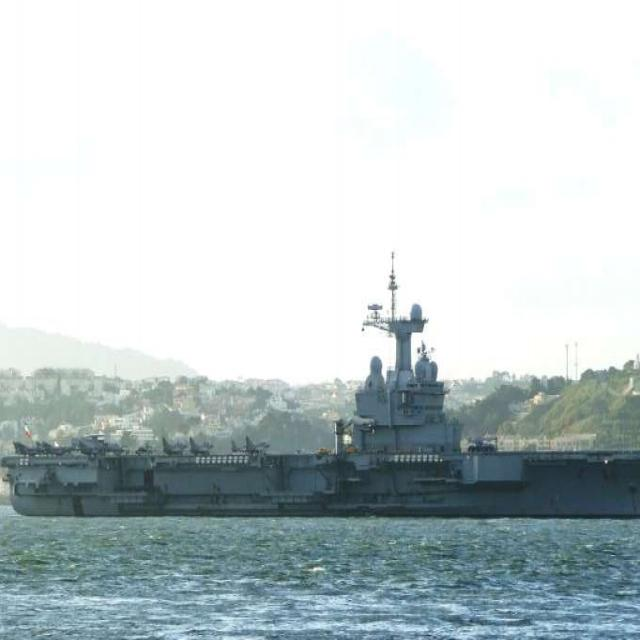Portanaves: (3, 246, 640, 522)
